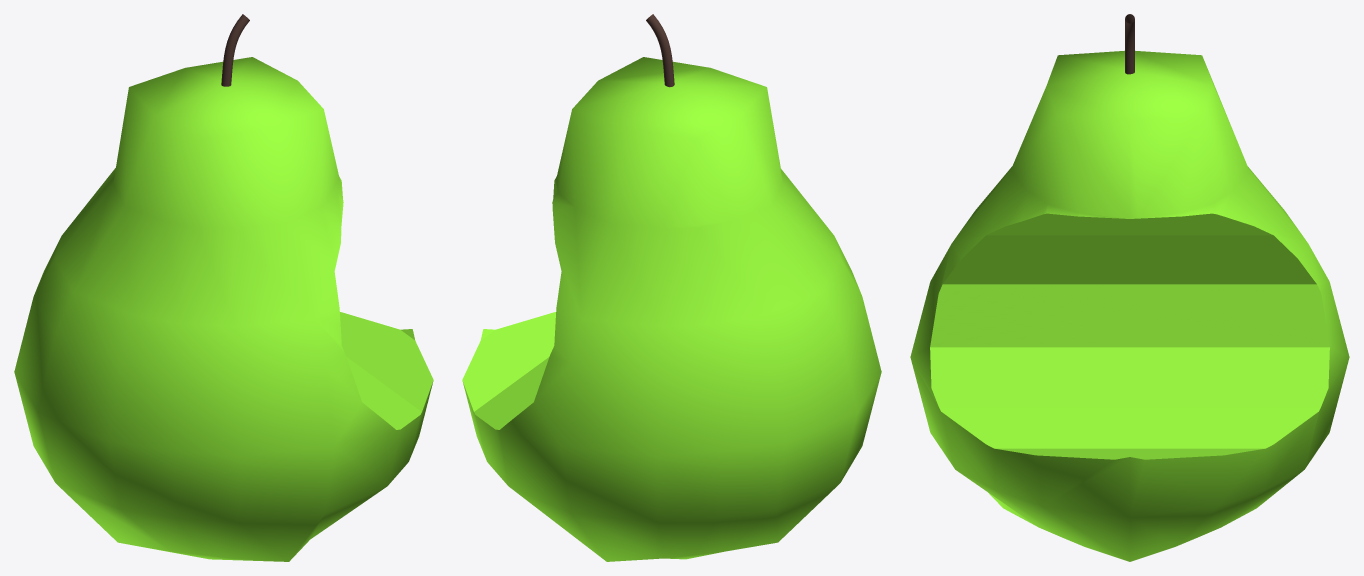
Rendered from Cut_nashi.fbx.
3 renders of one model, left to right at view 1: azimuth 30°, elevation 25°; view 2: azimuth 150°, elevation 25°; view 3: azimuth 270°, elevation 25°, orthographic.
Visible parts, largest first — view 1: Base.009, Base.010; view 2: Base.009, Base.010; view 3: Base.009, Base.010.
Boxes of the visible parts, box(x1,y1,x2,y2) form: Base.009: box(14, 57, 433, 561); Base.010: box(221, 14, 249, 86); Base.009: box(462, 57, 881, 561); Base.010: box(646, 14, 674, 87); Base.009: box(910, 50, 1349, 561); Base.010: box(1125, 14, 1134, 74).
Bounding box in the file's own units: 1.27 × 1.66 × 1.27.
